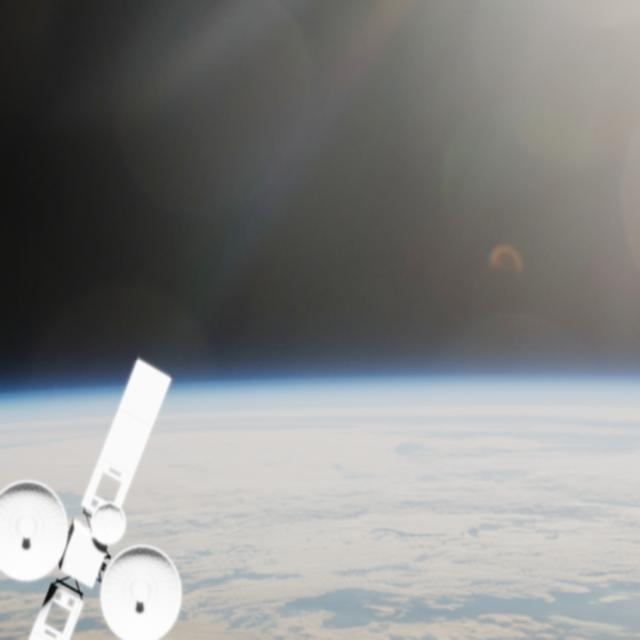satellite: (0, 343, 209, 640)
